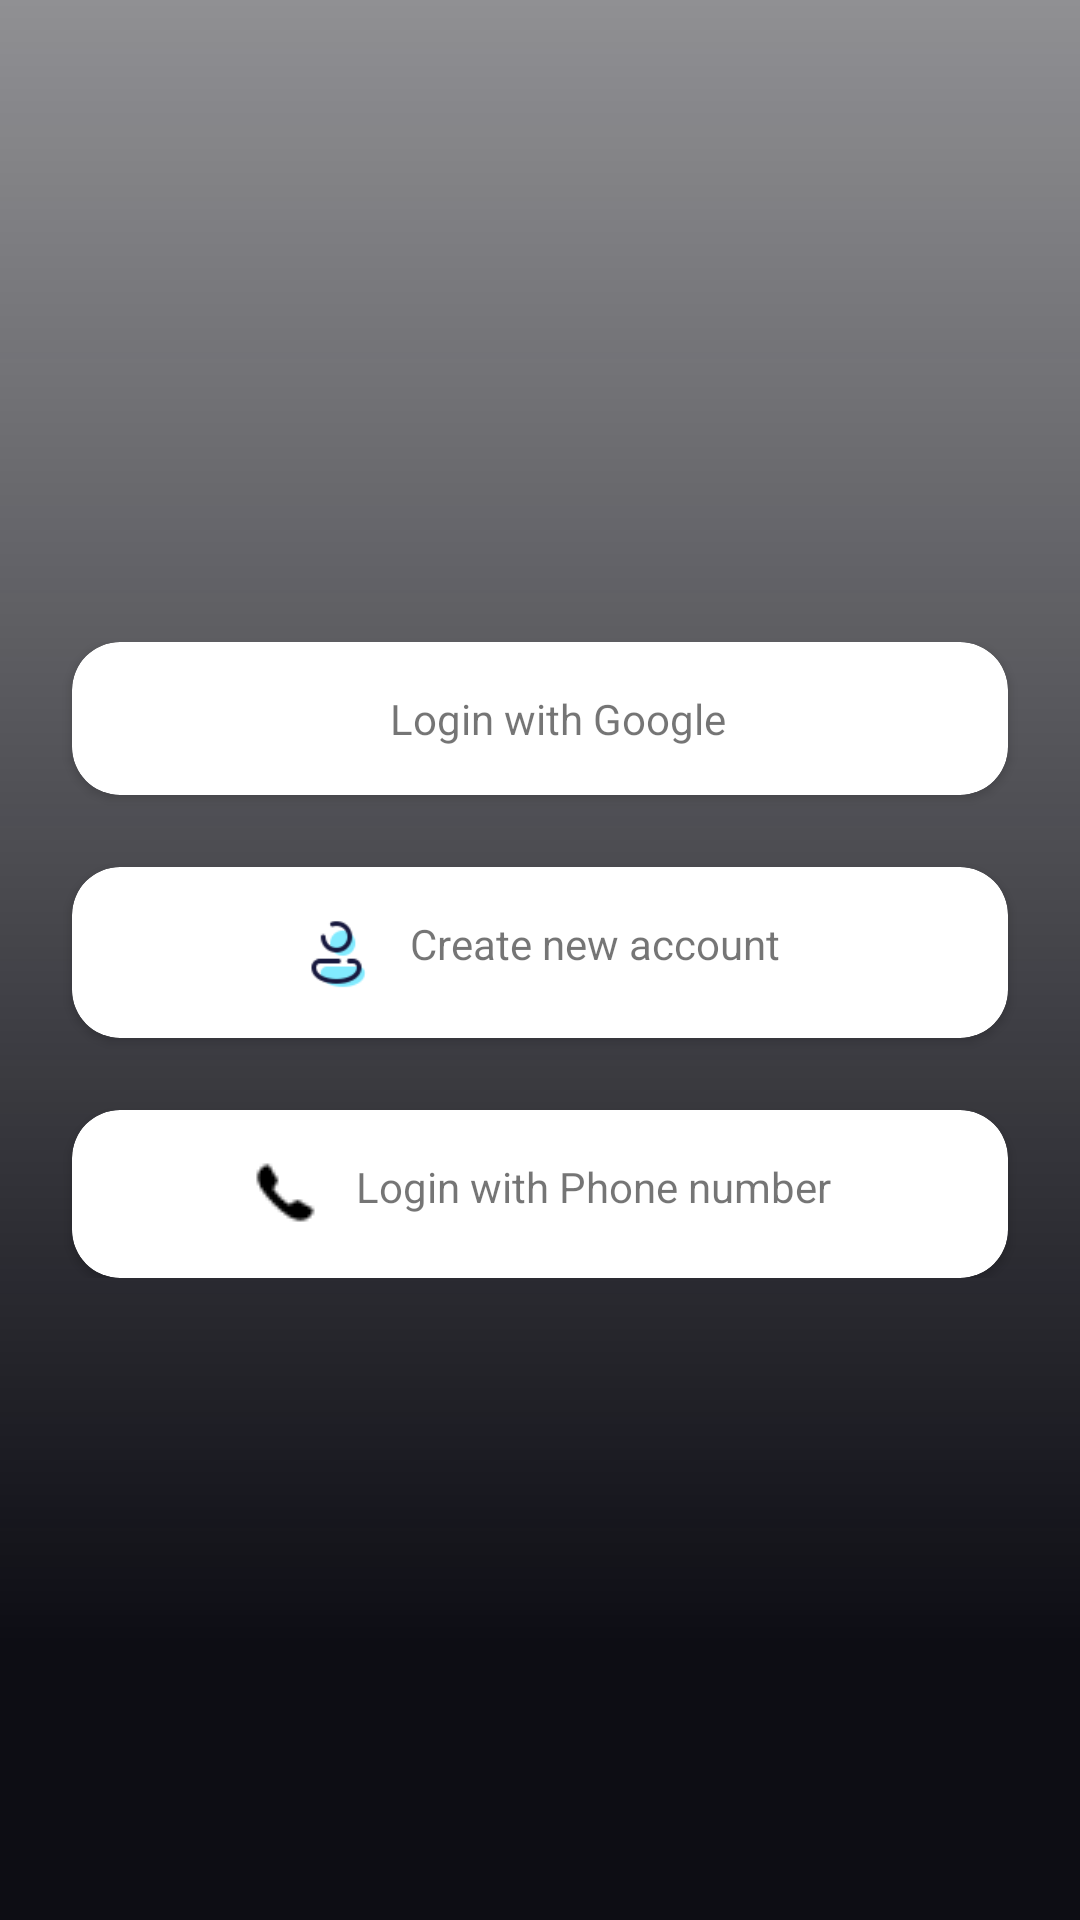

Named icons in this screenshot (1080x1920) and their bounding boxes, (x1, y1, x2, y2):
user: (311, 921, 365, 987)
